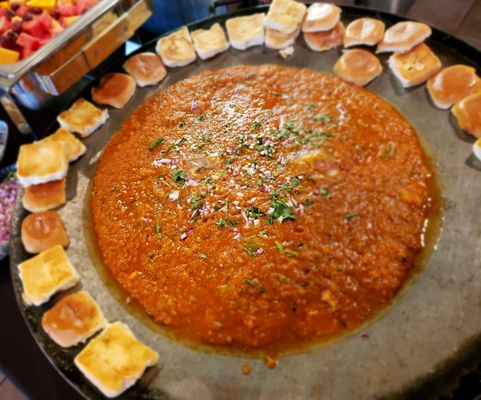curry: (23, 4, 481, 393)
sandwich: (90, 64, 436, 358)
sushi: (90, 62, 435, 360)
